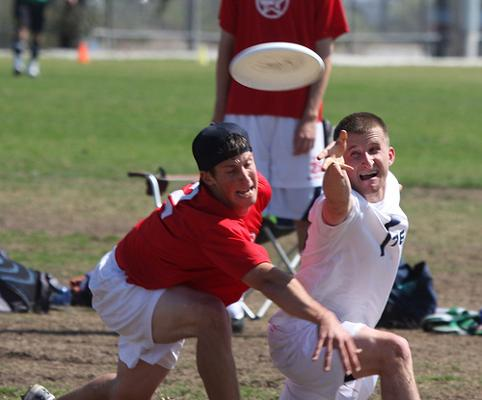person: (266, 114, 425, 400)
